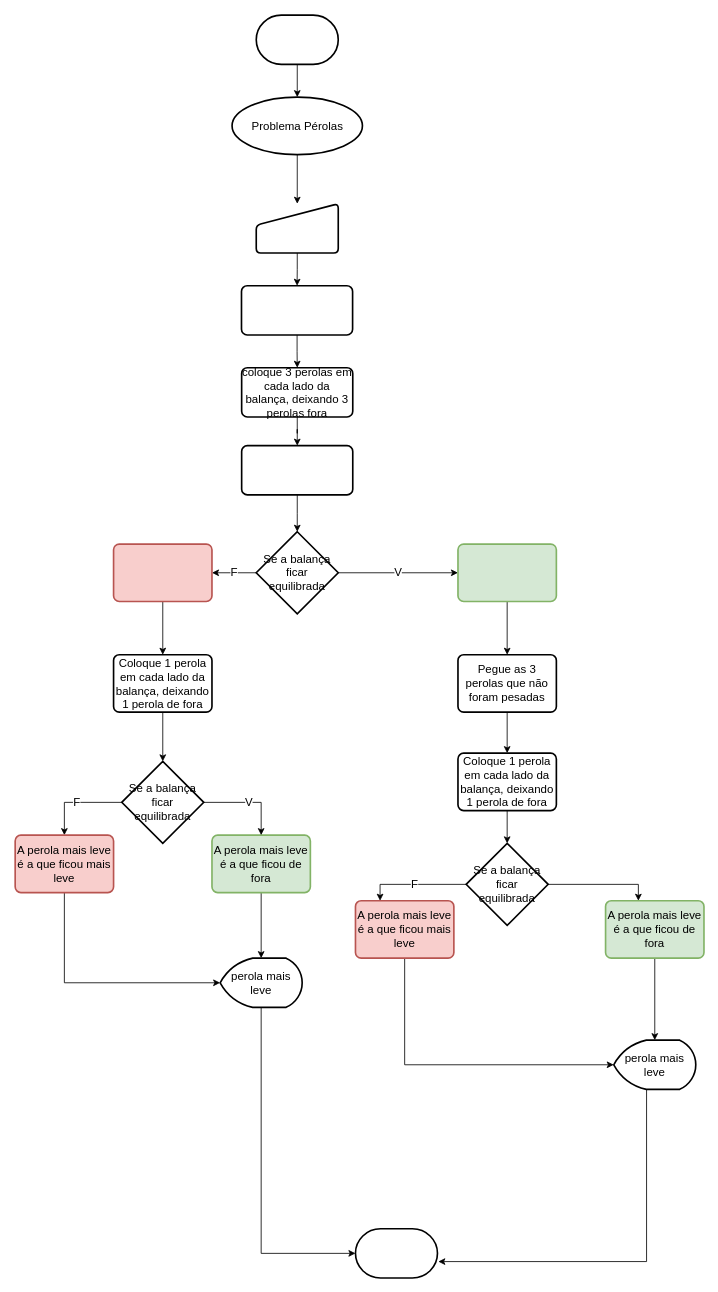
This 718x1292 diagram has some shape labels left out. The shapes that lost their labels are listed below. From the top down, each one's centre as x and y in pixels, then its label:
(297,39): INICIO
(297,228): Perola mais leva
(296,310): Separe as pérolas em 3 grupos de 3
(296,469): pese as perolas
(162,572): Pegue as 3 perolas do lado da balança que ficou mais leve
(507,572): Deixe todas as perolas utilizadas de lado
(396,1253): Saida
